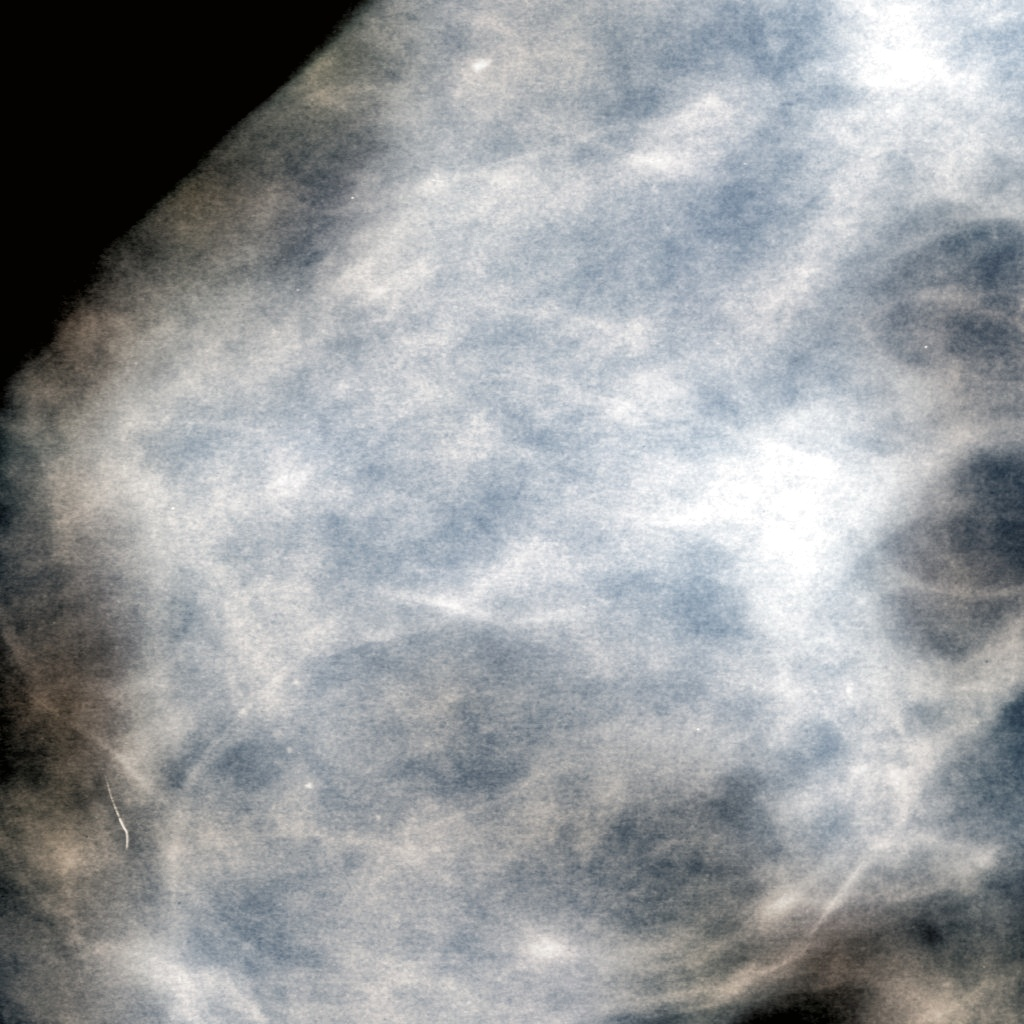tumor: (89, 19, 935, 1005)
